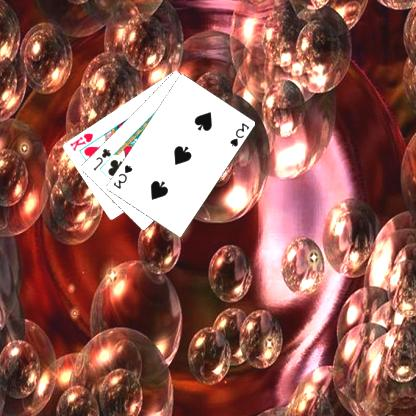3S: (112, 162, 136, 190), (229, 120, 252, 148)
JC: (92, 146, 114, 172)
KH: (68, 130, 96, 152)
